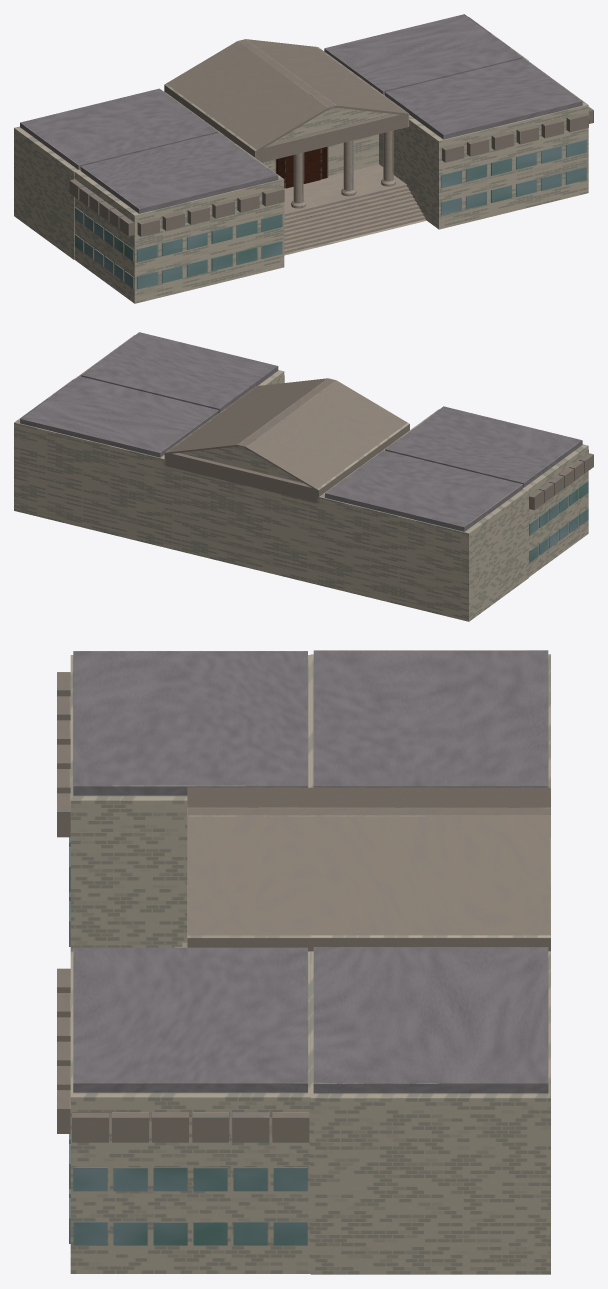
The model's file is TownHall.fbx.
3 views of the same model, one above another, from view 1: azimuth 30°, elevation 25°; view 2: azimuth 150°, elevation 25°; view 3: azimuth 270°, elevation 25° (orthographic). The views are drawn at different scales.
Visible parts, largest first — view 1: BakedTownHall.001; view 2: BakedTownHall.001; view 3: BakedTownHall.001.
Part boxes in pixels (x1,y1,x2,y2): BakedTownHall.001: (14, 14, 593, 303); BakedTownHall.001: (14, 332, 593, 621); BakedTownHall.001: (57, 650, 550, 1274).
Size of the model in its own units: 7160 by 1771 by 3290.
Materials: 1 (1 with a texture image).
